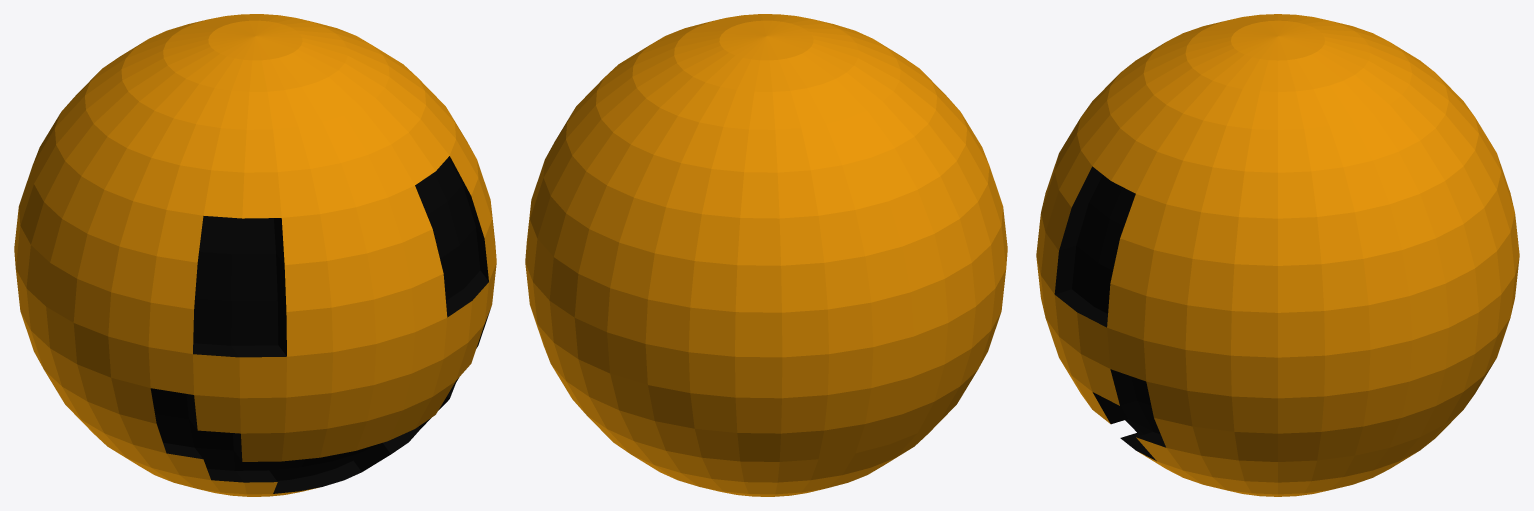
File: smile ball.fbx
3 views of the same model, side by side, from view 1: azimuth 30°, elevation 25°; view 2: azimuth 150°, elevation 25°; view 3: azimuth 270°, elevation 25° (orthographic).
Visible parts, largest first — view 1: Sphere; view 2: Sphere; view 3: Sphere.
Boxes of the visible parts, left/top/right/bottom form: Sphere: left=14, top=14, right=496, bottom=496; Sphere: left=525, top=14, right=1007, bottom=496; Sphere: left=1036, top=14, right=1519, bottom=496.
Bounding box in the file's own units: 200 × 200 × 200.
